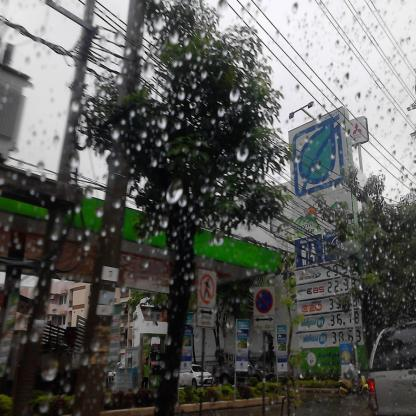Car: (369, 323, 416, 416), (180, 365, 215, 386)
